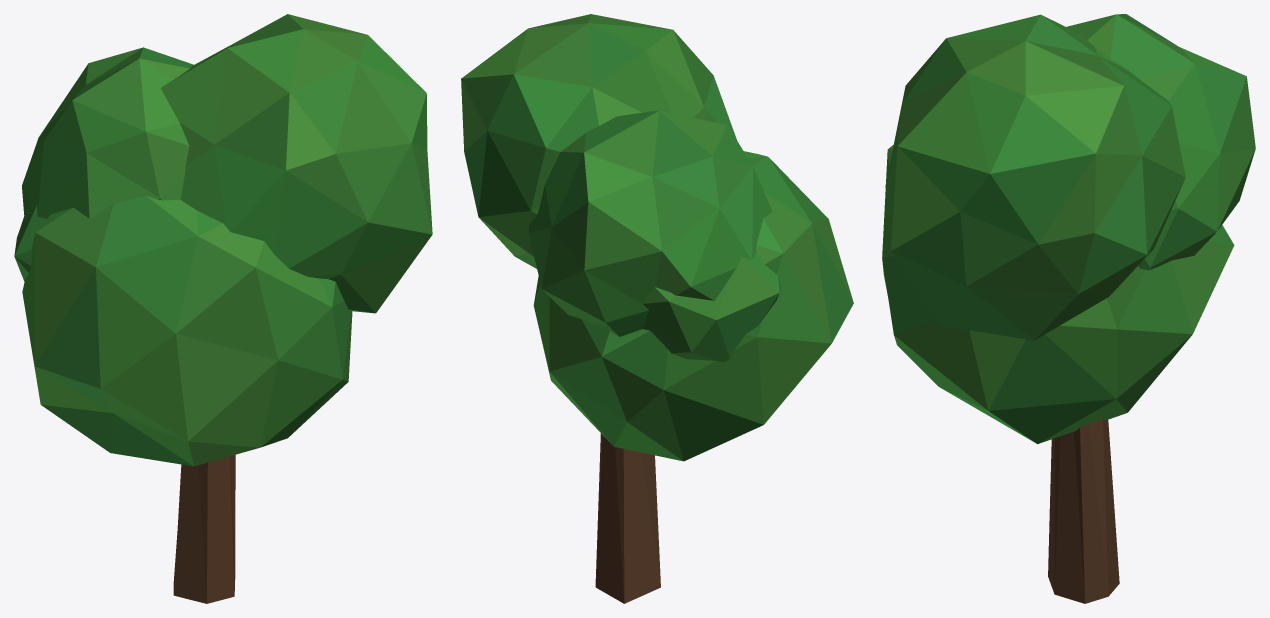
Rendered from deciduous_tree.glb.
3 renders of one model, left to right at view 1: azimuth 30°, elevation 25°; view 2: azimuth 150°, elevation 25°; view 3: azimuth 270°, elevation 25°, orthographic. The views are drawn at different scales.
Parts seen in each view (by area): view 1: tree; view 2: tree; view 3: tree.
Part boxes in pixels (x1,y1,x2,y2): tree: [14, 14, 432, 603]; tree: [461, 14, 853, 603]; tree: [882, 14, 1255, 603].
Size of the model in its own units: 1.39 by 2.03 by 1.18.
